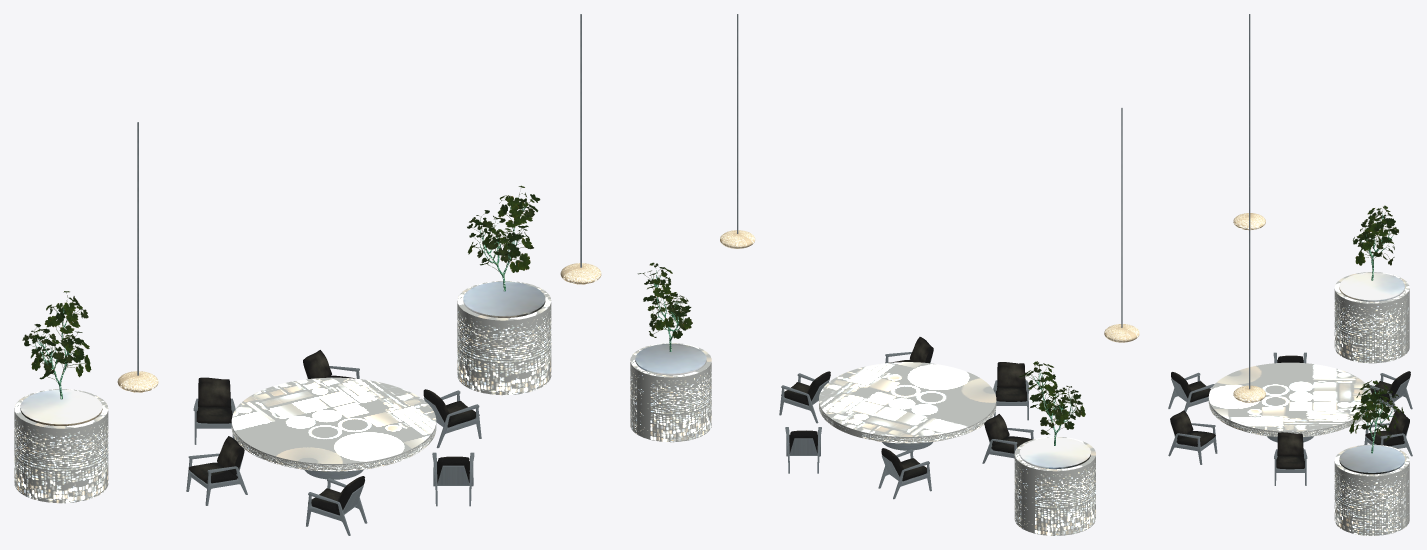
Rendered from community.glb.
The picture shows the model from 3 angles, left to right: view 1: azimuth 30°, elevation 25°; view 2: azimuth 150°, elevation 25°; view 3: azimuth 270°, elevation 25°; orthographic projection. The views are drawn at different scales.
Parts seen in each view (by area): view 1: Static_community; view 2: Static_community; view 3: Static_community.
Boxes of the visible parts, x1,y1,x2,y2 form: Static_community: (14,14,601,535); Static_community: (630,14,1139,535); Static_community: (1168,14,1412,535).
Bounding box in the file's own units: 11.84 × 9 × 5.99.
7 materials, 4 textured.
